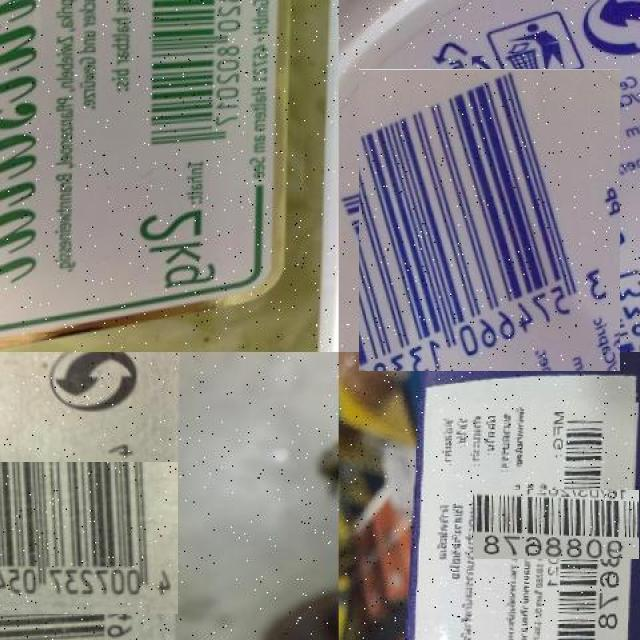Barcode: (348, 79, 630, 361), (0, 449, 165, 627), (131, 0, 252, 160), (512, 450, 640, 599)
